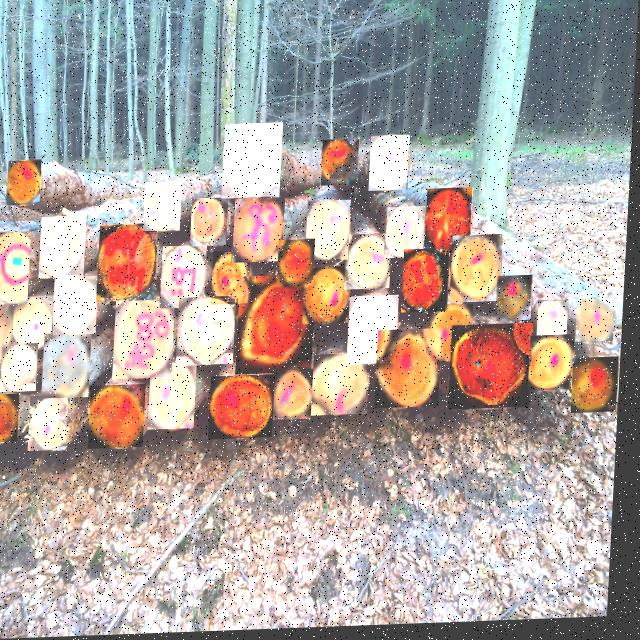wood-log: (240, 278, 318, 375), (455, 329, 535, 412), (380, 333, 444, 411), (117, 299, 177, 380), (101, 226, 159, 302), (225, 126, 283, 200), (215, 377, 278, 441), (181, 298, 238, 367), (94, 386, 148, 449), (352, 299, 401, 367), (318, 356, 371, 418), (455, 239, 504, 306), (236, 201, 287, 264), (48, 334, 94, 399), (154, 365, 200, 430), (429, 192, 474, 257), (406, 252, 451, 315), (165, 247, 209, 309), (43, 217, 88, 277), (307, 270, 353, 326), (431, 308, 476, 365), (309, 204, 353, 262), (57, 278, 101, 335), (349, 237, 394, 292), (577, 362, 621, 417), (0, 232, 33, 304), (534, 340, 577, 395), (16, 297, 57, 350), (34, 396, 72, 451), (372, 138, 409, 193), (215, 253, 253, 306), (389, 210, 427, 261), (279, 373, 317, 422), (146, 184, 184, 232), (5, 344, 41, 392), (281, 242, 316, 289), (324, 142, 359, 188), (194, 200, 228, 246), (580, 304, 618, 345), (501, 279, 534, 325), (10, 161, 42, 205), (0, 394, 23, 442), (541, 305, 571, 340), (0, 302, 16, 366)
